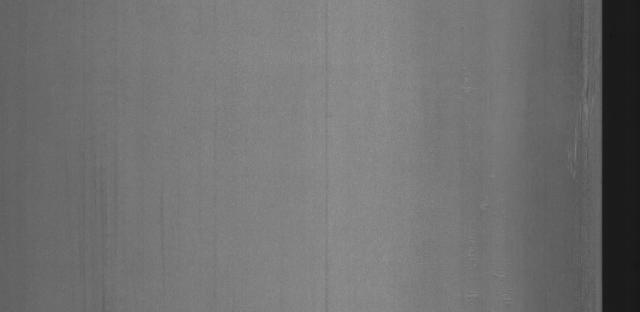silk_spot: (544, 63, 596, 178)
